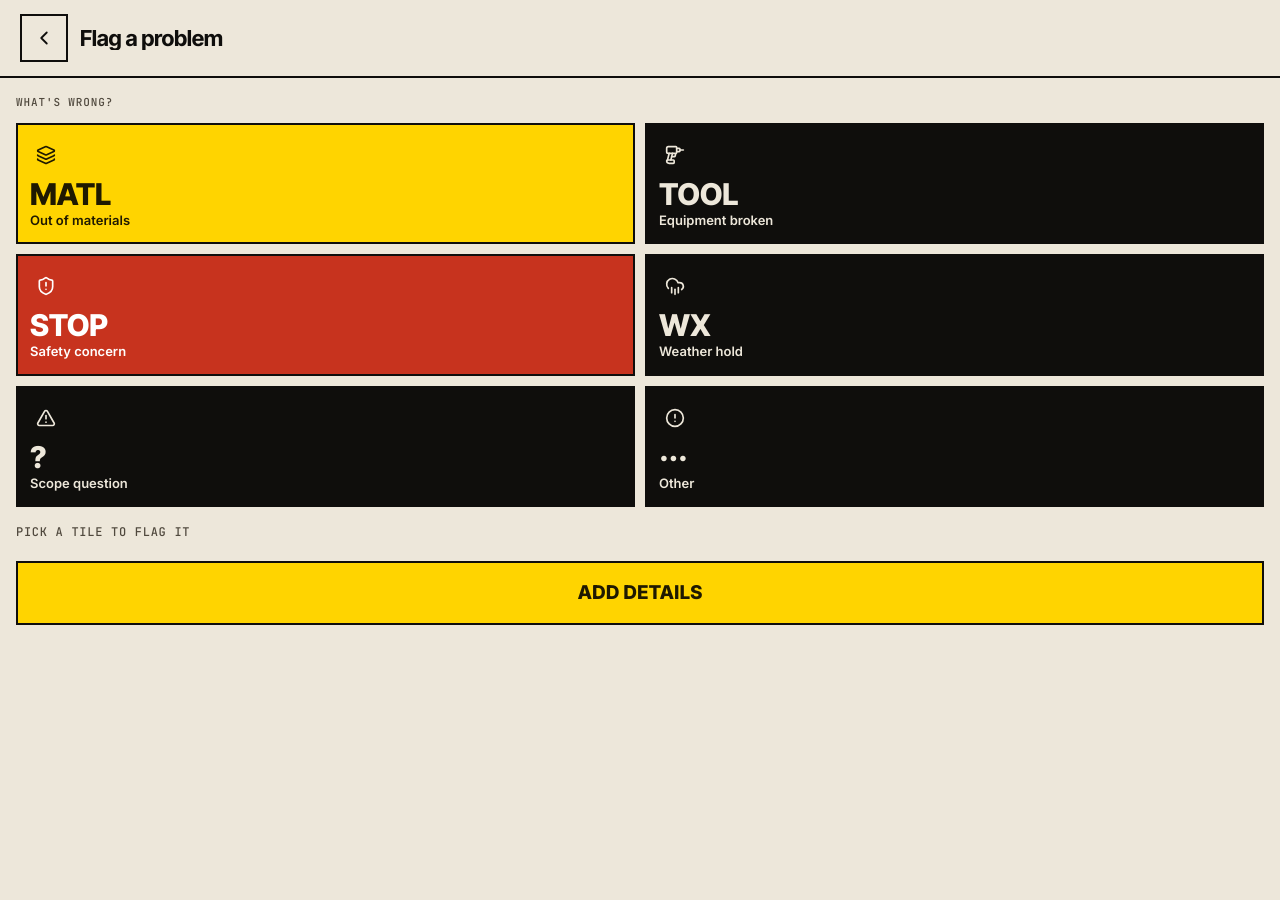
Test: WorkerIssue › does not present the category tile step as the final foreman send
Expected: the button "Add details" is disabled, [16,561,1264,625]
Expected: the button "send to foreman" is not shown
What coordinates should you click on to do the following:
click the text "Out of materials"
I would click on:
 (80, 220)
Its box is [30,212,130,228].
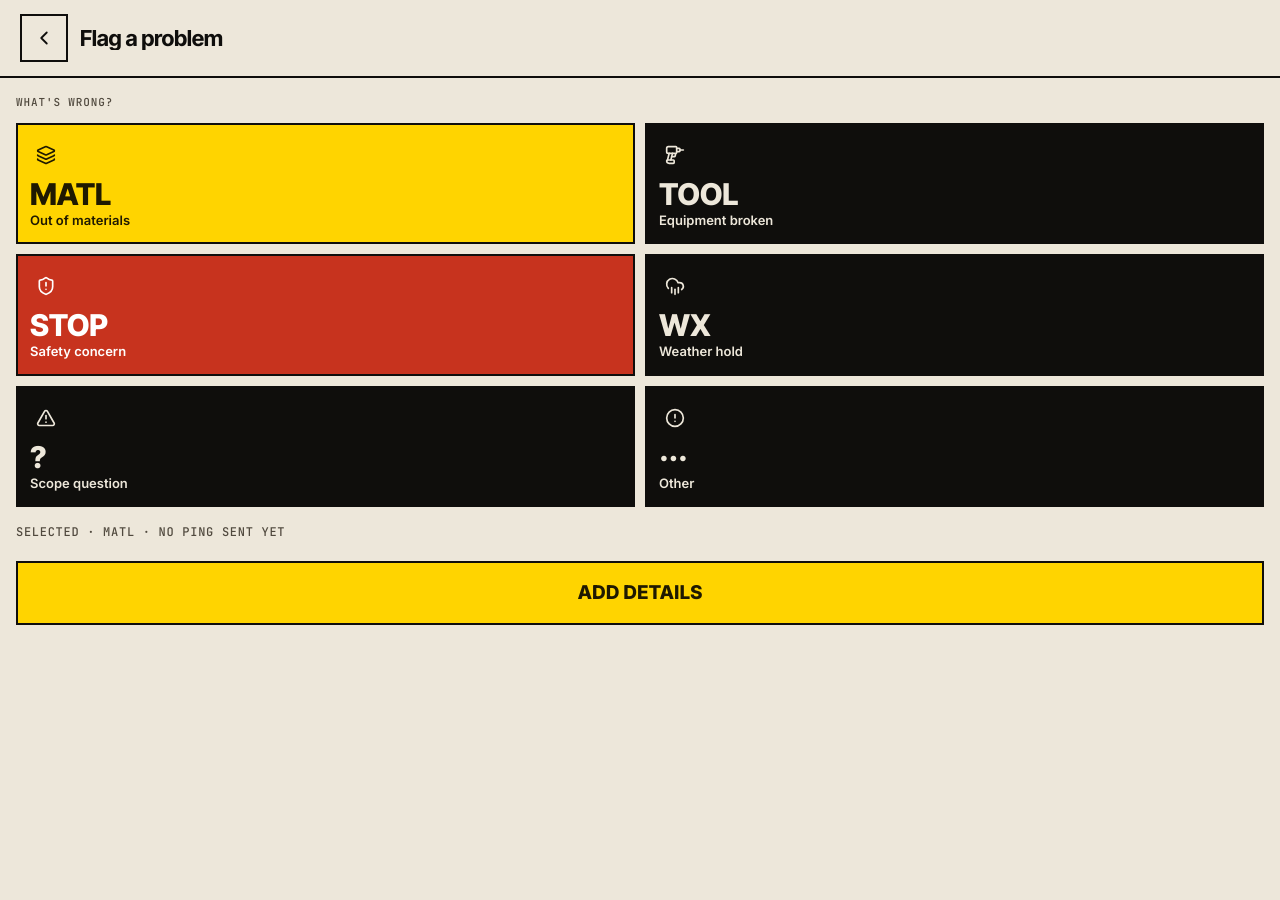
Expected: the text "SELECTED · MATL · NO PING SENT YET" is shown, [16,524,285,540]
What coordinates should you click on to do the following:
click the button "Add details"
I would click on:
 (640, 593)
Its box is [16,561,1264,625].
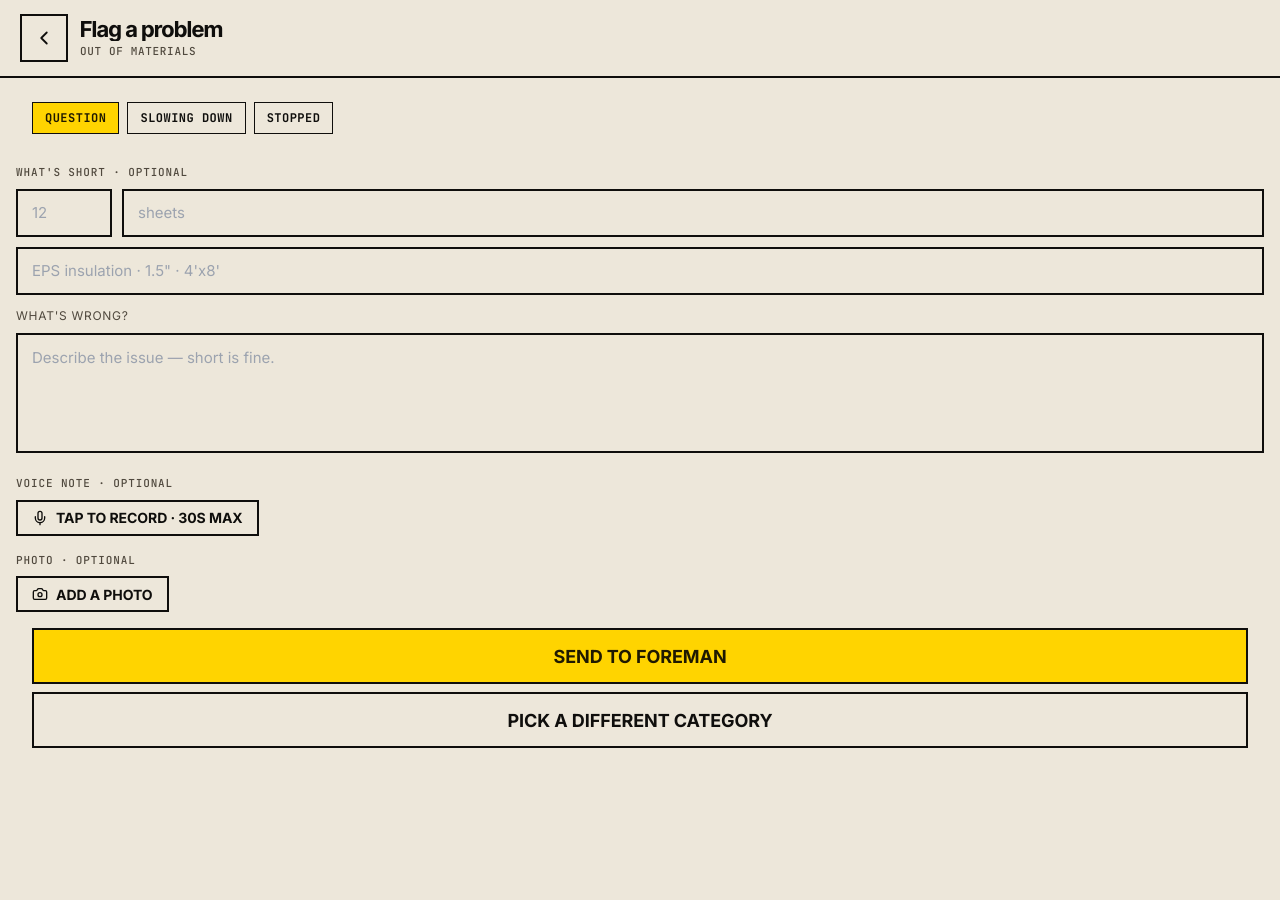
Expected: the text "What's wrong?" is shown, [16,308,129,322]
Expected: the button "Send to foreman" is shown, [32,628,1248,684]
